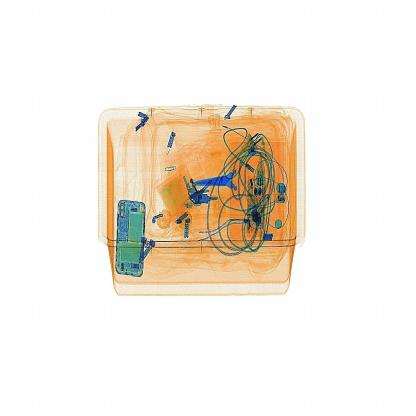gun: (192, 155, 266, 210)
